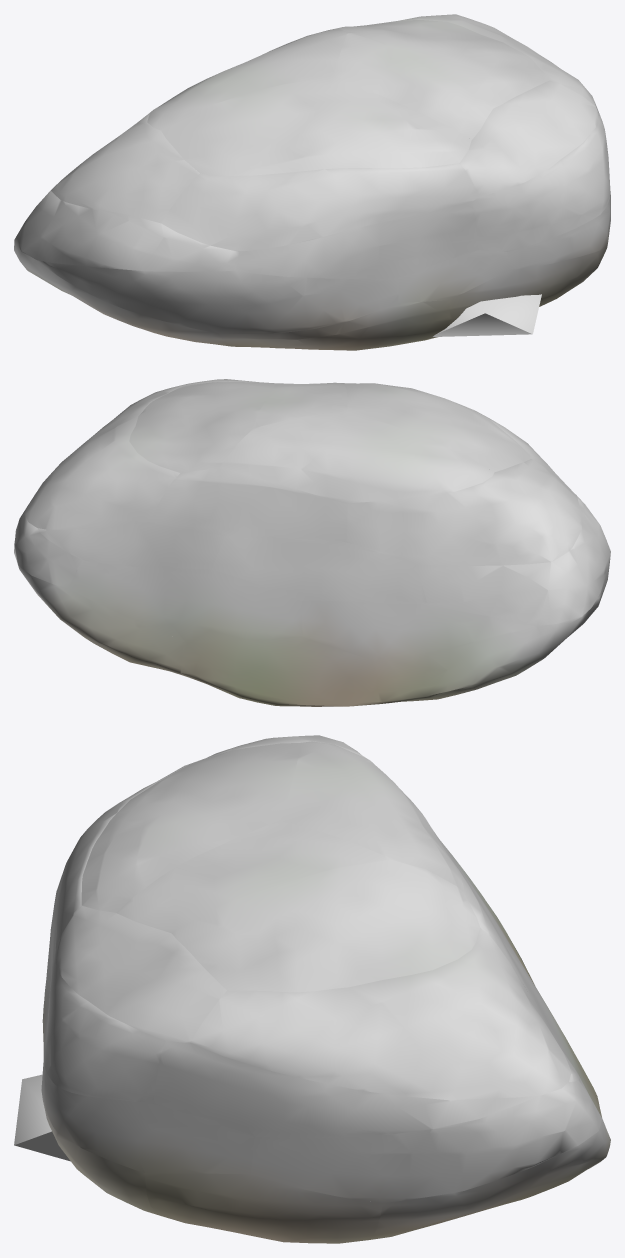
File: coal_rock_v4.glb
3 views of the same model, one above another, from view 1: azimuth 30°, elevation 25°; view 2: azimuth 150°, elevation 25°; view 3: azimuth 270°, elevation 25° (orthographic). The views are drawn at different scales.
Parts seen in each view (by area): view 1: Chunk_28, Chunk_23, Chunk_10, Chunk_17, Chunk_16, Chunk_18, Chunk_24, Chunk_22, Chunk_29, Chunk_30, Chunk_27, Chunk_04 (+6 smaller); view 2: Chunk_22, Chunk_27, Chunk_08, Chunk_02, Chunk_16, Chunk_25, Chunk_15, Chunk_21, Chunk_09, Chunk_29, Chunk_03, Chunk_28 (+5 smaller); view 3: Chunk_25, Chunk_29, Chunk_07, Chunk_28, Chunk_19, Chunk_24, Chunk_30, Chunk_27, Chunk_00, Chunk_12, Chunk_18, Chunk_01 (+6 smaller).
Boxes of the visible parts, box(x1,y1,x2,y2) form: Chunk_28: box(161, 76, 471, 175); Chunk_23: box(161, 163, 478, 251); Chunk_10: box(37, 260, 398, 333); Chunk_17: box(236, 202, 477, 278); Chunk_16: box(17, 191, 239, 271); Chunk_18: box(472, 119, 610, 251); Chunk_24: box(459, 80, 598, 196); Chunk_22: box(50, 113, 199, 223); Chunk_29: box(337, 20, 549, 108); Chunk_30: box(332, 32, 492, 139); Chunk_27: box(147, 28, 347, 130); Chunk_04: box(219, 300, 449, 350); Chunk_22: box(346, 459, 582, 565); Chunk_27: box(220, 411, 494, 503); Chunk_08: box(68, 560, 302, 641); Chunk_02: box(180, 637, 379, 706); Chunk_16: box(416, 495, 610, 625); Chunk_25: box(25, 385, 182, 529); Chunk_15: box(212, 536, 427, 603); Chunk_21: box(149, 468, 347, 541); Chunk_09: box(301, 600, 535, 661); Chunk_29: box(129, 381, 276, 472); Chunk_03: box(375, 600, 600, 703); Chunk_28: box(341, 383, 531, 472); Chunk_25: box(190, 928, 571, 1099); Chunk_29: box(172, 860, 480, 992); Chunk_07: box(251, 1077, 602, 1202); Chunk_28: box(81, 743, 299, 912); Chunk_19: box(153, 1041, 537, 1138); Chunk_24: box(56, 905, 226, 1042); Chunk_30: box(116, 820, 390, 933); Chunk_27: box(280, 741, 464, 892); Chunk_00: box(145, 1173, 382, 1243); Chunk_12: box(41, 1056, 254, 1174); Chunk_18: box(44, 948, 165, 1102); Chunk_01: box(369, 1080, 610, 1239).
Bounding box in the file's own units: 2.85 × 1.15 × 2.09.
